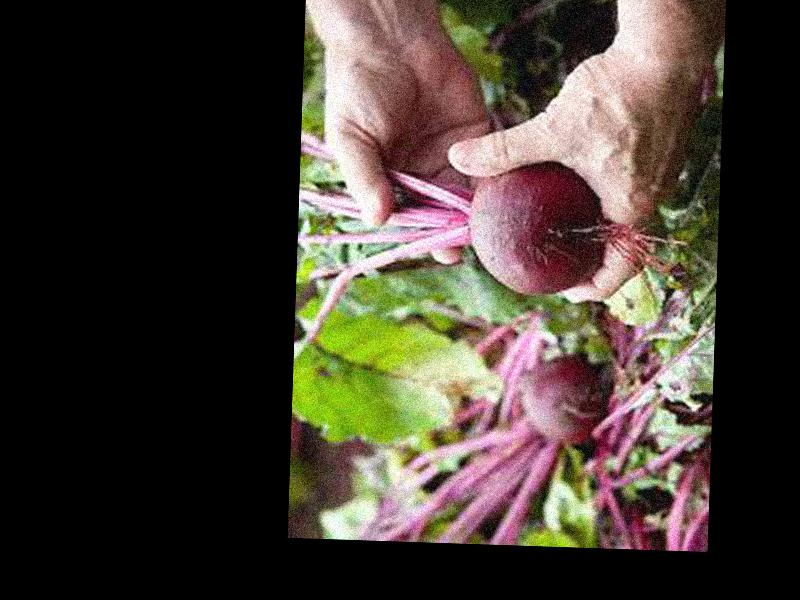Beet: (296, 150, 608, 370)
